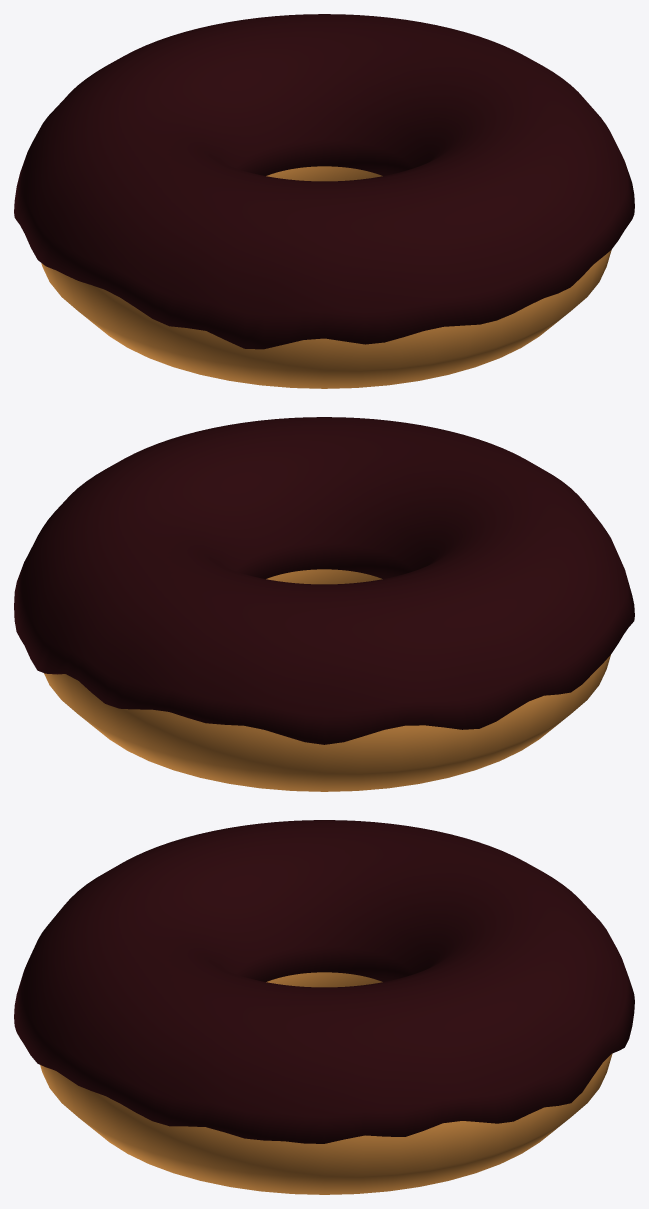
File: donut.fbx
The picture shows the model from 3 angles, top to bottom: view 1: azimuth 30°, elevation 25°; view 2: azimuth 150°, elevation 25°; view 3: azimuth 270°, elevation 25°; orthographic projection.
Visible parts, largest first — view 1: Torus.001, Torus; view 2: Torus.001, Torus; view 3: Torus.001, Torus.
Part boxes in pixels (left/top/right/bottom): Torus.001: left=14, top=14, right=634, bottom=349; Torus: left=41, top=166, right=611, bottom=388; Torus.001: left=14, top=417, right=634, bottom=744; Torus: left=44, top=569, right=610, bottom=791; Torus.001: left=14, top=820, right=634, bottom=1143; Torus: left=40, top=972, right=612, bottom=1194.
Bounding box in the file's own units: 313 × 105 × 313.
